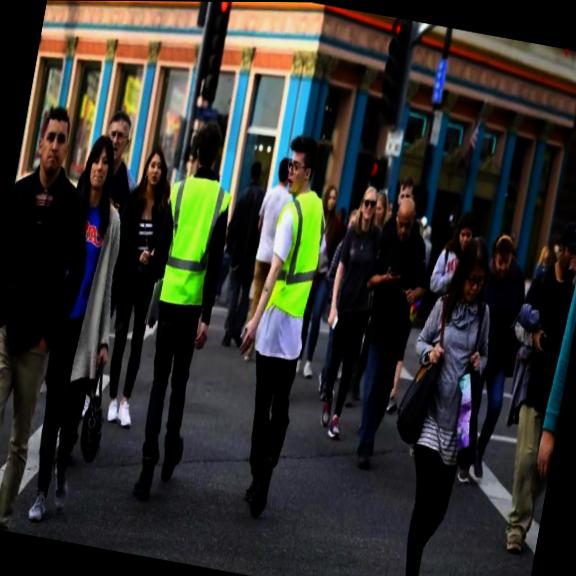safety_vest: (150, 169, 235, 312), (262, 185, 328, 314)
